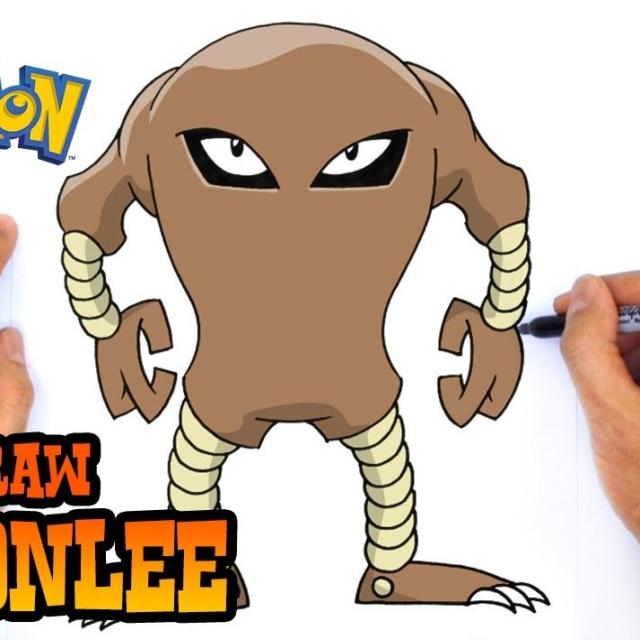Hitmonlee: (138, 21, 450, 520)
